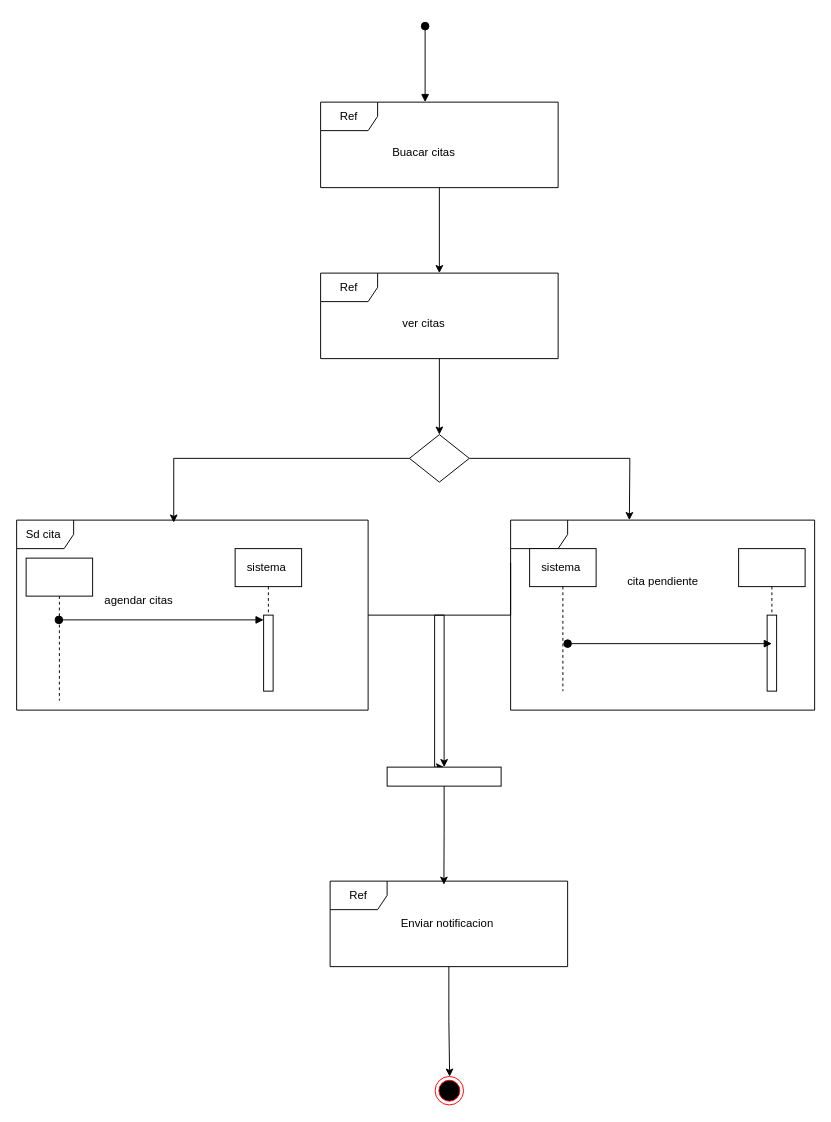
This 831x1122 diagram has some shape labels left out. Each missing label, with the box of its shape:
base de datos: (738, 548, 805, 691)
cliente: (25, 557, 93, 701)
Sd cuenta: (510, 519, 815, 710)
